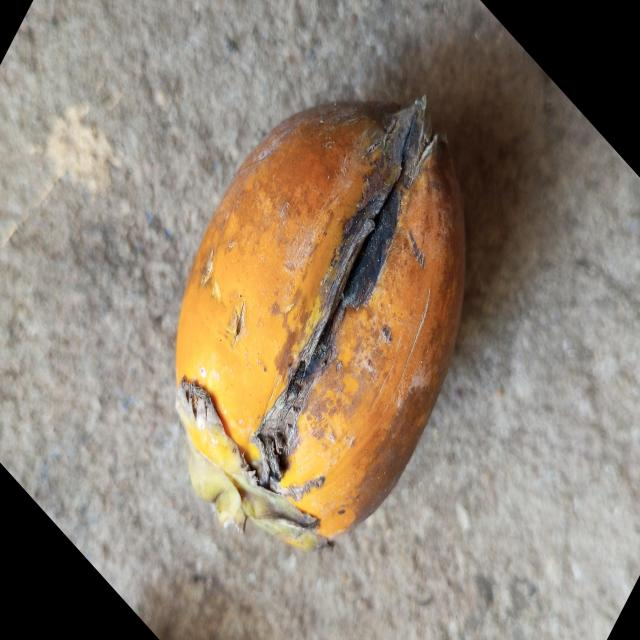damaged: (176, 96, 464, 549)
